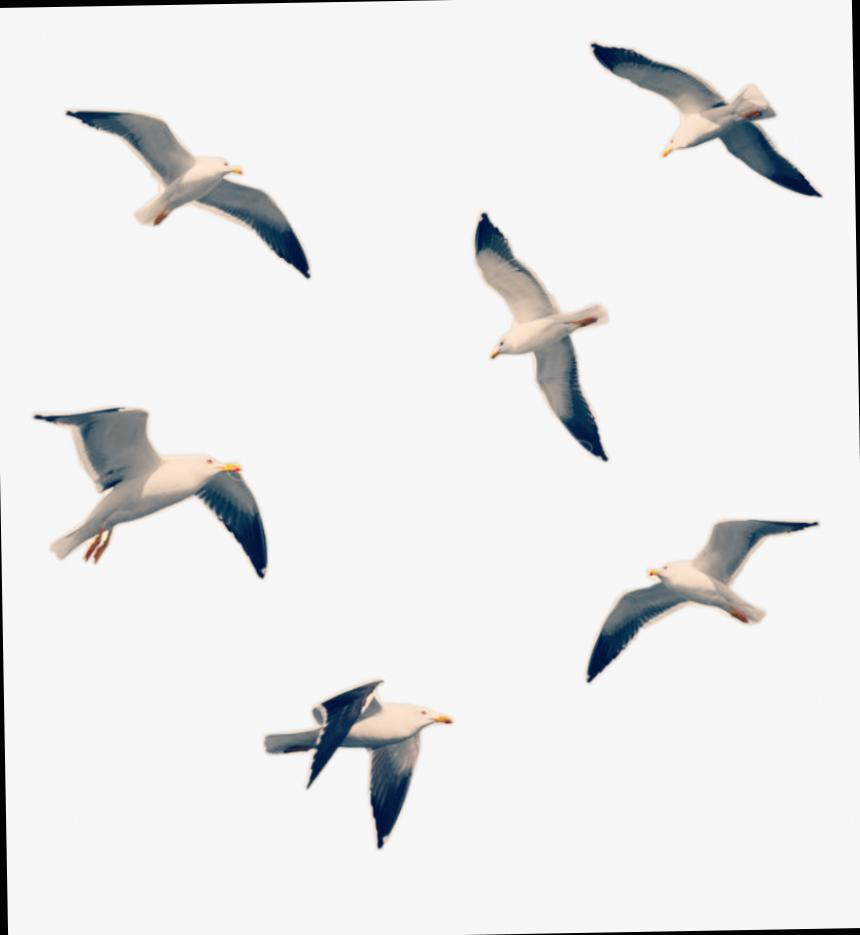bird: (14, 368, 297, 604), (444, 197, 674, 484), (46, 83, 322, 302), (561, 17, 834, 214), (571, 507, 830, 691), (256, 664, 464, 860)
